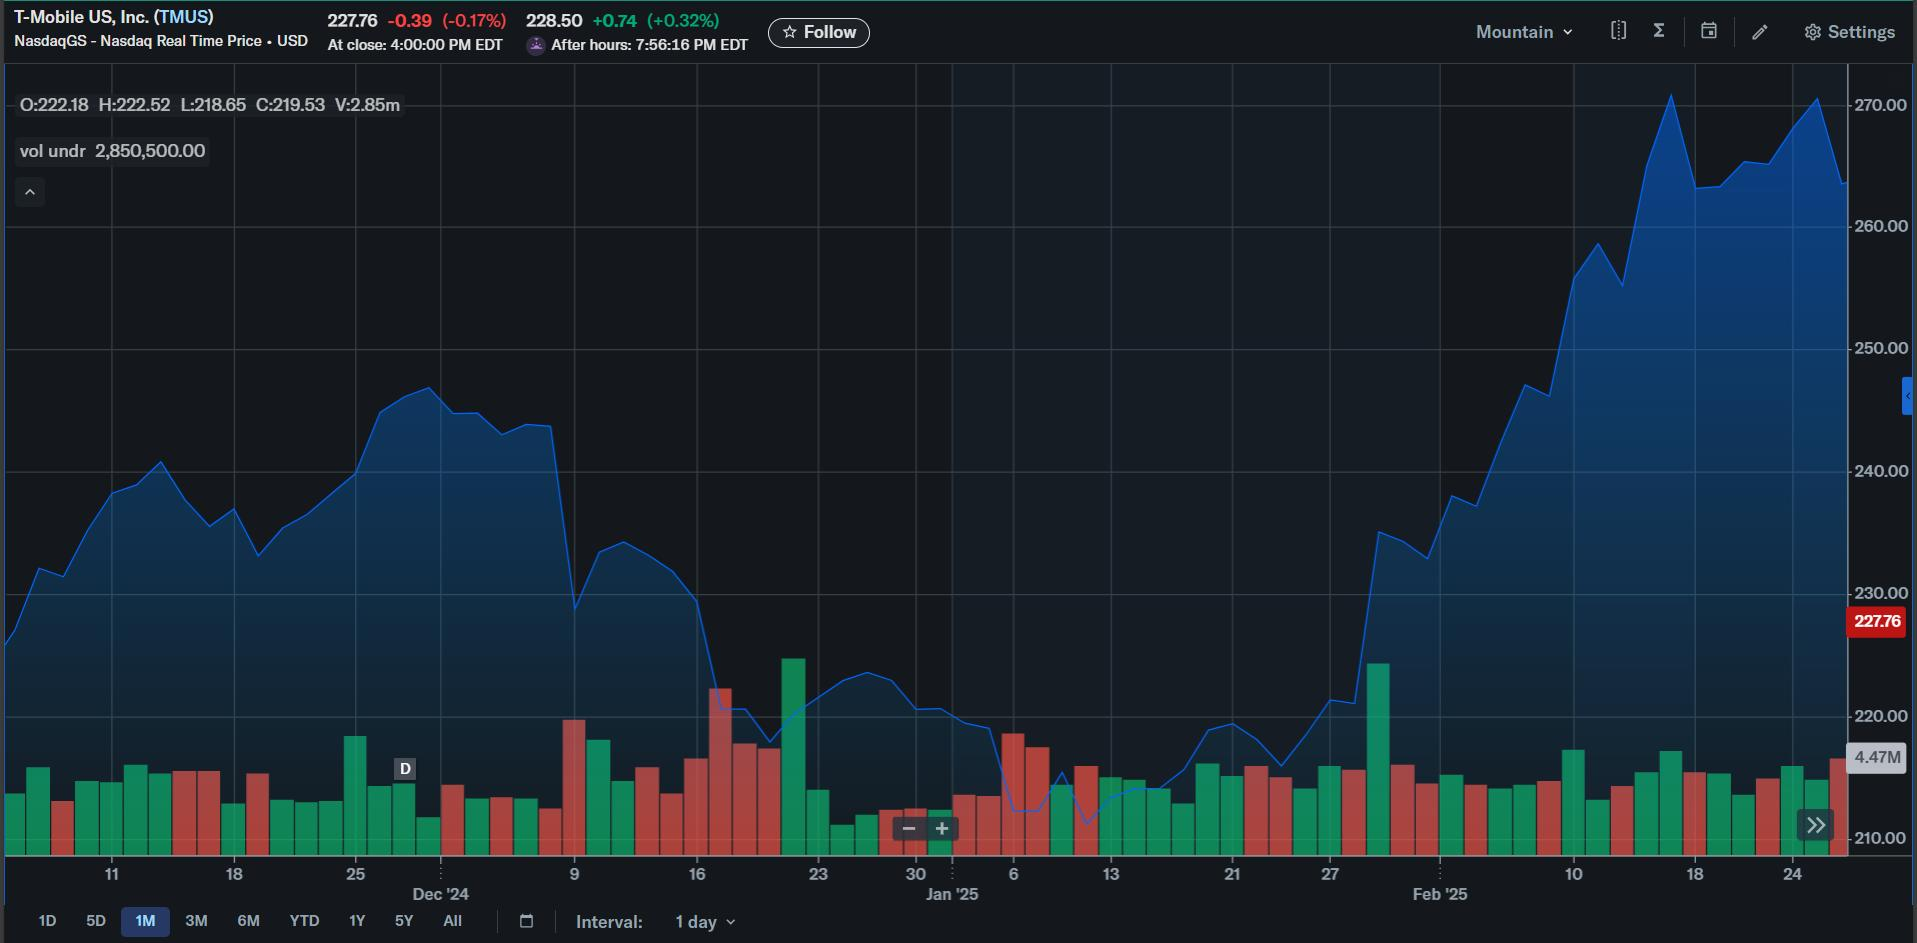Downtrend: (682, 560, 789, 763)
Sideways: (378, 357, 561, 462)
Uptrend: (1312, 510, 1401, 716), (1606, 80, 1672, 298), (1444, 368, 1542, 514)
